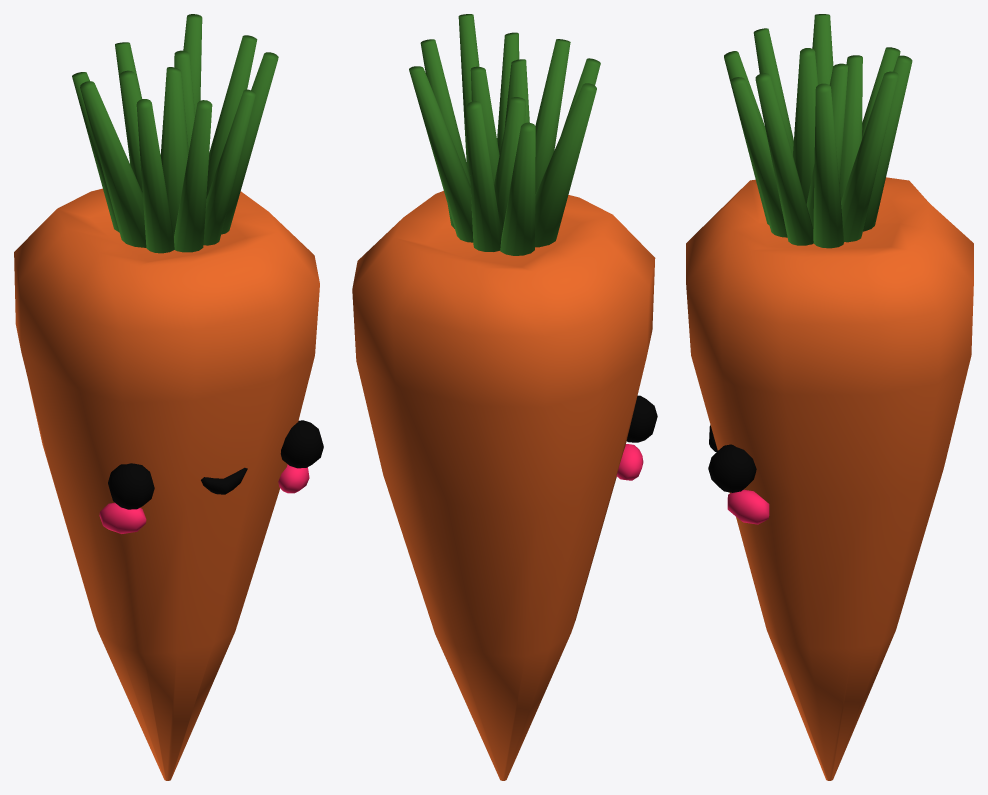
File: Carrot(smiling).fbx
3 views of the same model, side by side, from view 1: azimuth 30°, elevation 25°; view 2: azimuth 150°, elevation 25°; view 3: azimuth 270°, elevation 25° (orthographic).
Parts seen in each view (by area): view 1: Carrot(smiling); view 2: Carrot(smiling); view 3: Carrot(smiling).
Boxes of the visible parts, x1,y1,x2,y2 form: Carrot(smiling): (14,14,323,780); Carrot(smiling): (352,14,657,780); Carrot(smiling): (686,14,973,780).
Bounding box in the file's own units: 93.7 × 265 × 93.65.
